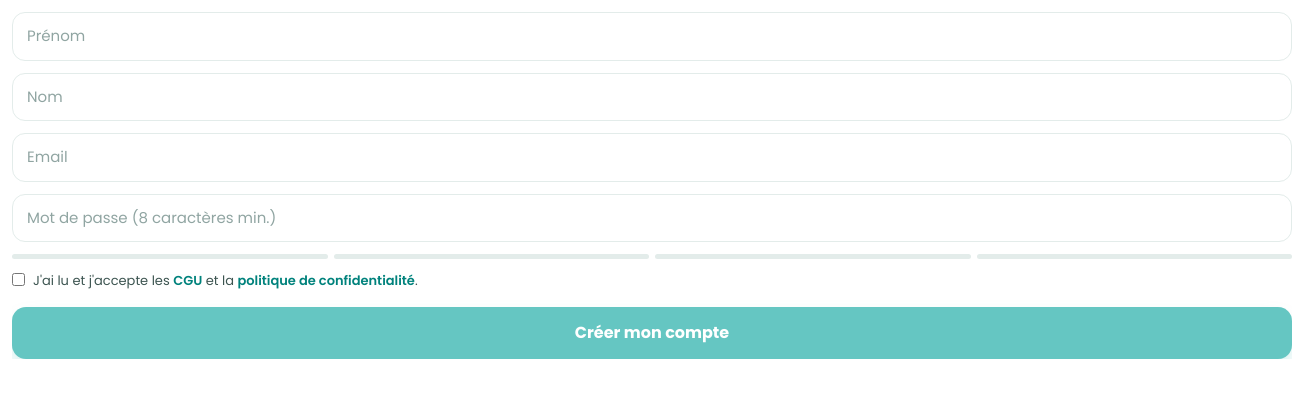
it: RegisterForm › sans consentement → bloque, message CGU, register jamais appelé
In the field with placeholder "Prénom": (652,36) [12,12,1292,60], type "Jean"
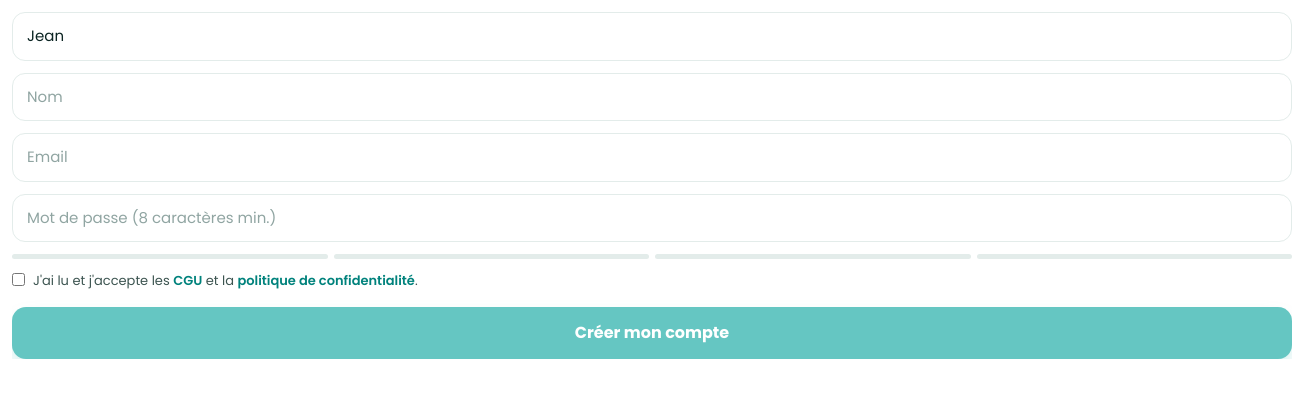
In the field with placeholder "Nom": (652,97) [12,72,1292,121], type "Dupont"
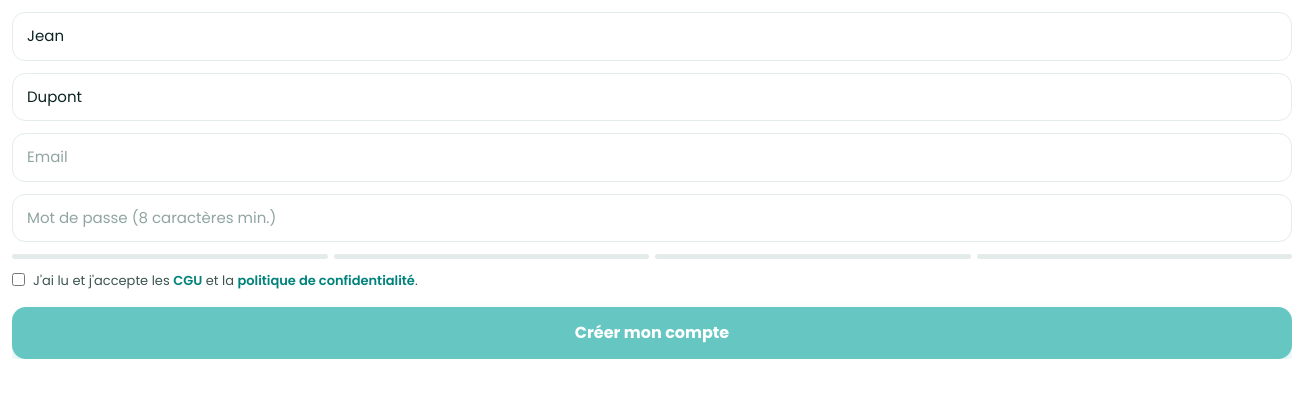
In the field with placeholder "Email": (652,157) [12,133,1292,182], type "jean@ex.fr"
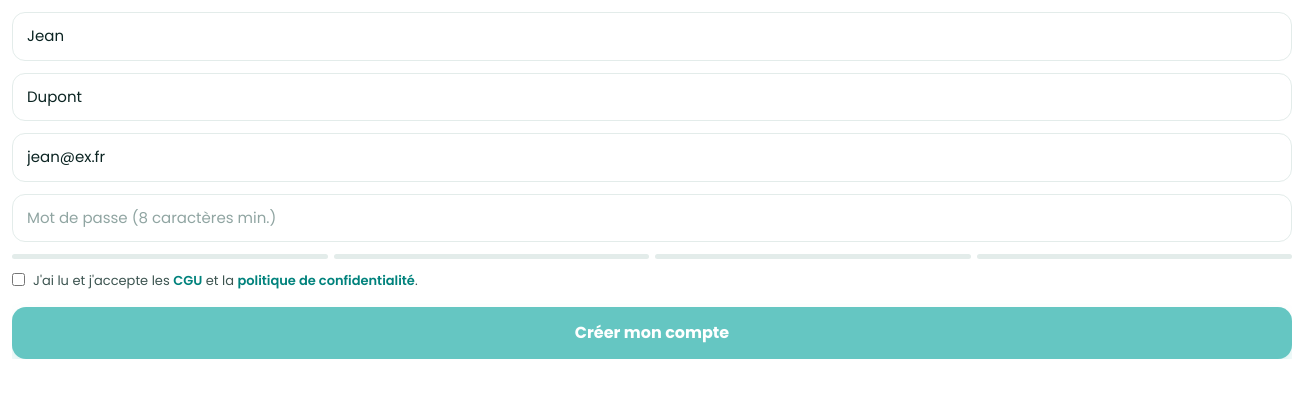
In the password field with placeholder "Mot de passe (8 caractères min.)": (652,218) [12,194,1292,242], type "Password1"
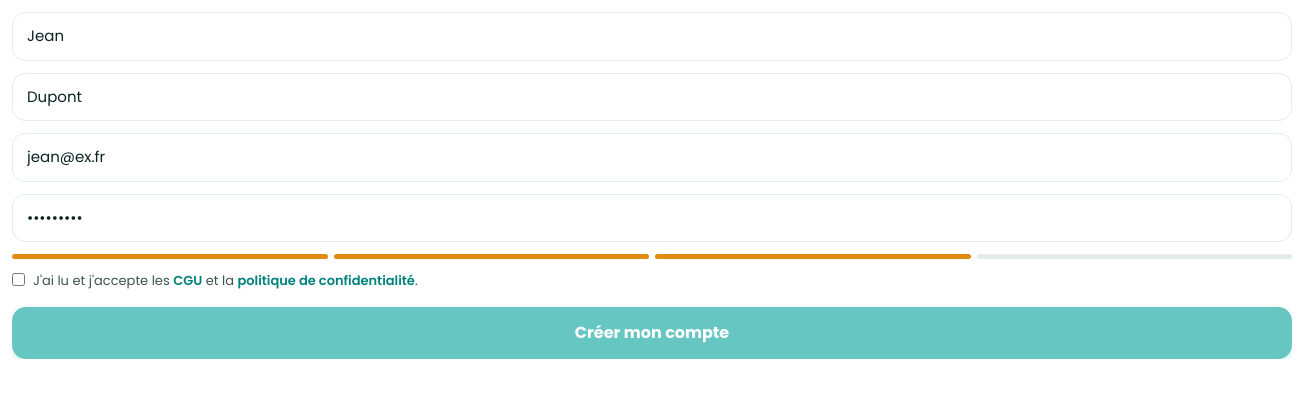
Submit the form named "Créer mon compte"
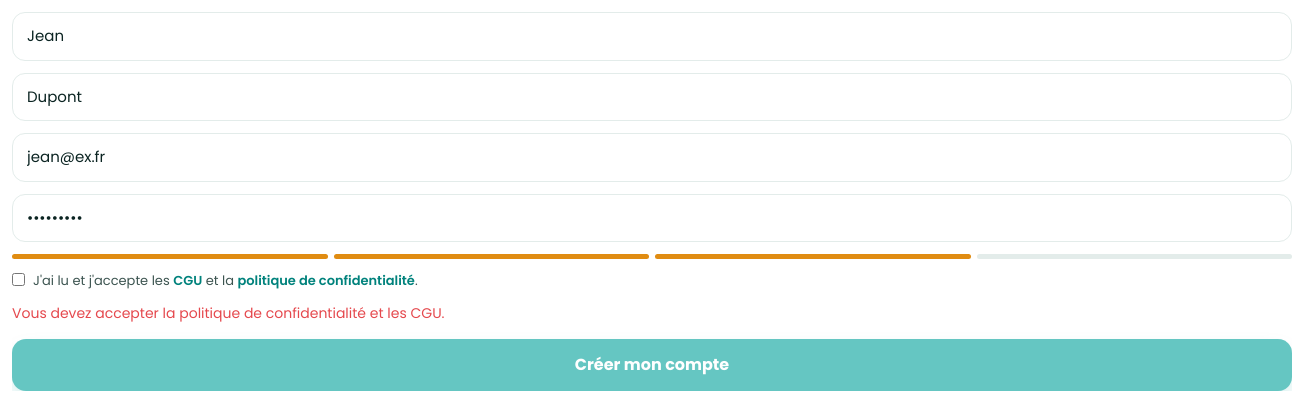
Expected: the text "Vous devez accepter la politique de confidentialité et les CGU." is shown, [12,302,444,322]
